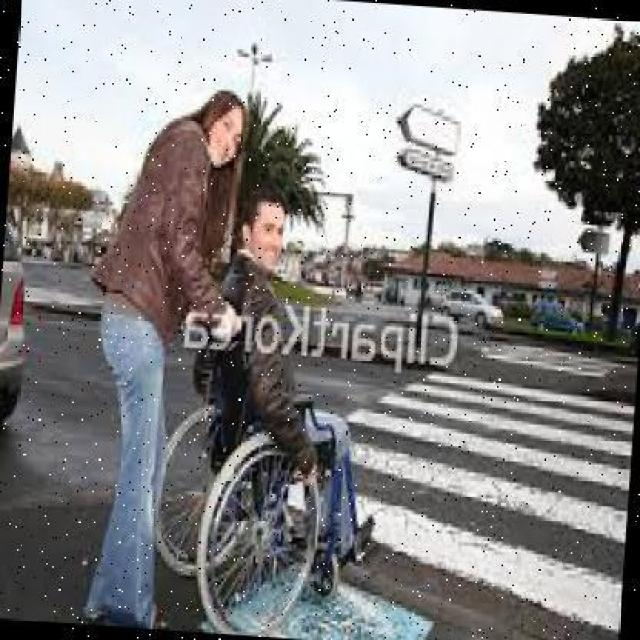Person: (146, 182, 402, 638), (71, 79, 255, 630)
